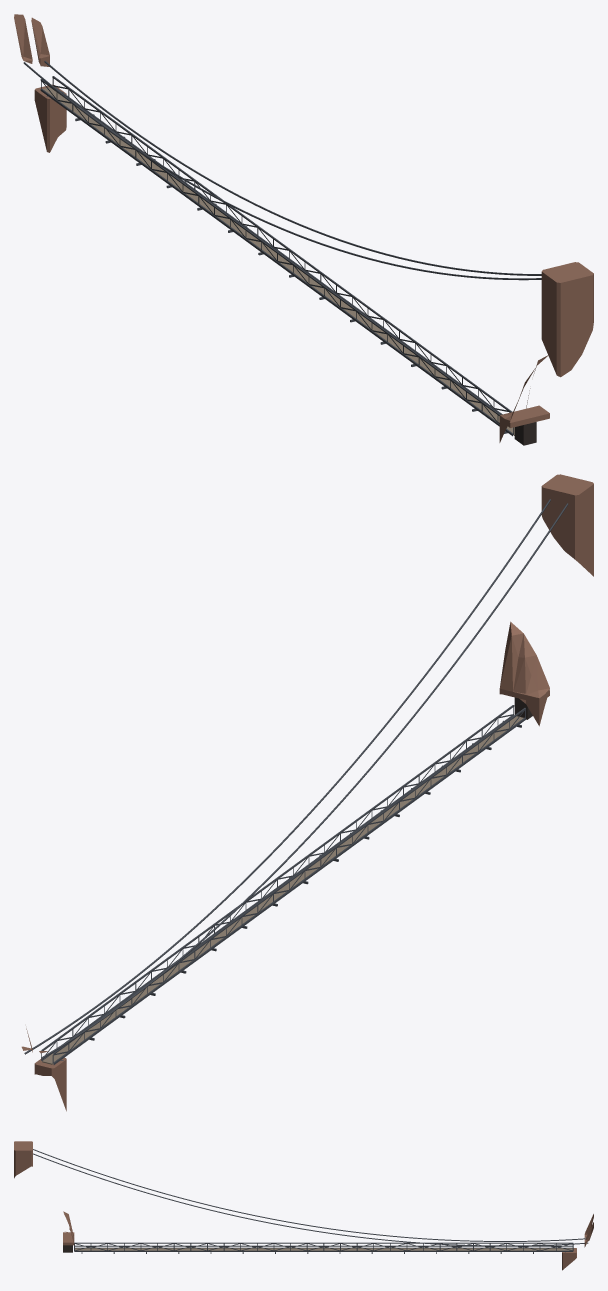
The model's file is grand-canyon-kaibab-suspension-bridge.glb.
3 renders of one model, top to bottom at view 1: azimuth 30°, elevation 25°; view 2: azimuth 150°, elevation 25°; view 3: azimuth 270°, elevation 25°, orthographic. The views are drawn at different scales.
Visible parts, largest first — view 1: Kaibab Suspension Bridge; view 2: Kaibab Suspension Bridge; view 3: Kaibab Suspension Bridge.
Part boxes in pixels (bbox=[...]): Kaibab Suspension Bridge: bbox=[14, 14, 593, 445]; Kaibab Suspension Bridge: bbox=[21, 474, 593, 1111]; Kaibab Suspension Bridge: bbox=[14, 1141, 593, 1270].
Size of the model in its own units: 6.4 by 38.82 by 154.
